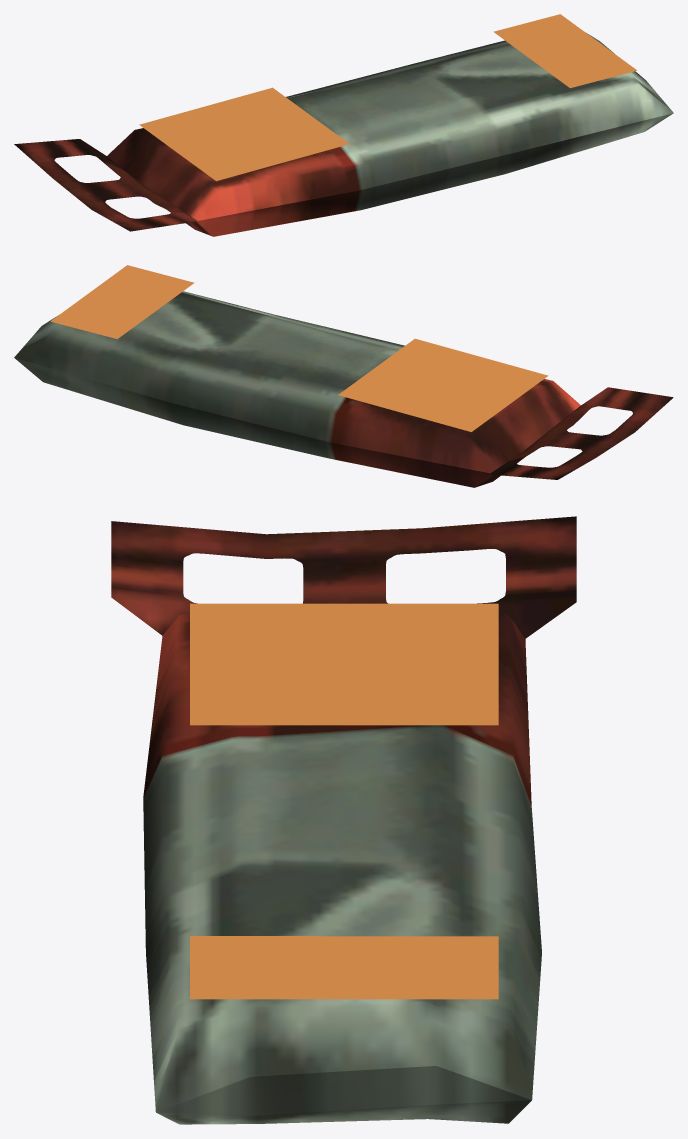
File: Assault Rifle Ammo.obj
The picture shows the model from 3 angles, top to bottom: view 1: azimuth 30°, elevation 25°; view 2: azimuth 150°, elevation 25°; view 3: azimuth 270°, elevation 25°; orthographic projection. The views are drawn at different scales.
Parts seen in each view (by area): view 1: __unnamed; view 2: __unnamed; view 3: __unnamed.
Boxes of the visible parts, <box> form: __unnamed: <box>14,14,673,236</box>; __unnamed: <box>14,265,673,487</box>; __unnamed: <box>111,516,576,1124</box>.
Size of the model in its own units: 19.46 by 3.42 by 7.06.
3 materials, 2 textured.
